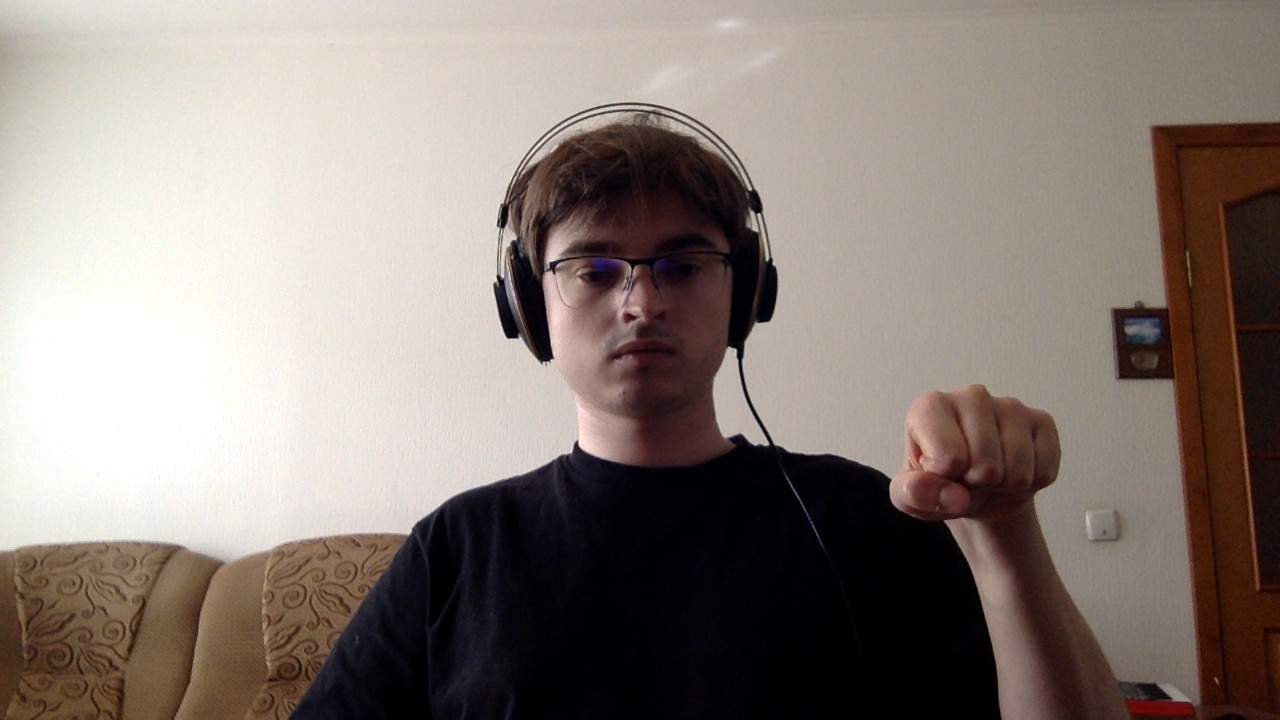yes: (819, 357, 1110, 537)
